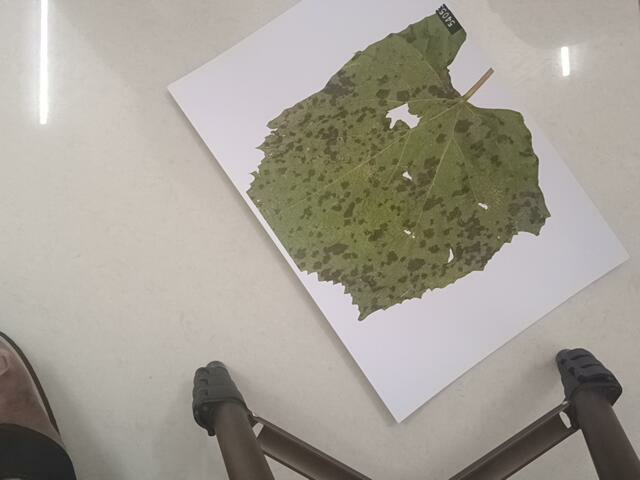Grape_Blight_Leaf: (247, 5, 583, 322)
